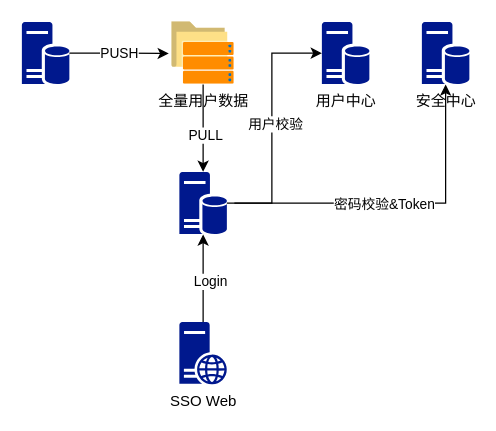
Some shapes in this 496 by 431 pixel diagram are drawn without their labels. Each missing label, with the centre of its shape:
HR: the point at 45,52
SSO Back: the point at 202,202
